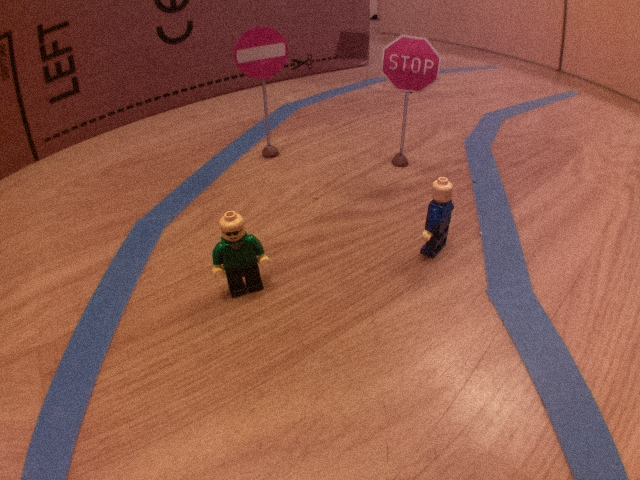LEGO_person: (209, 208, 274, 299), (415, 173, 459, 261)
stop: (380, 32, 442, 93)
zakaz: (234, 24, 291, 82)
